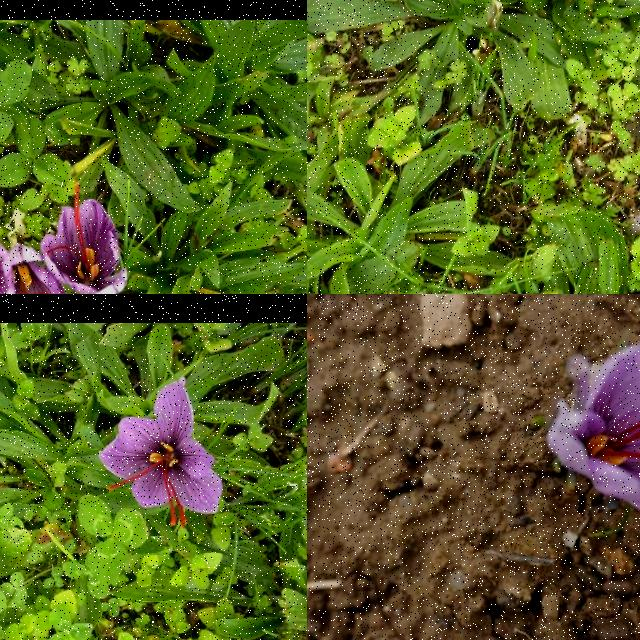flower: (98, 377, 222, 528), (549, 344, 640, 526), (39, 185, 128, 294), (9, 244, 71, 294)
